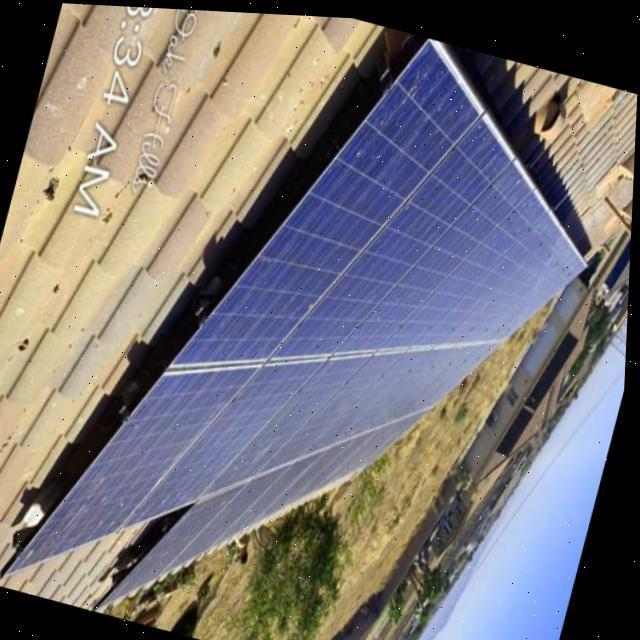Surface Contaminant: (11, 33, 589, 604)
